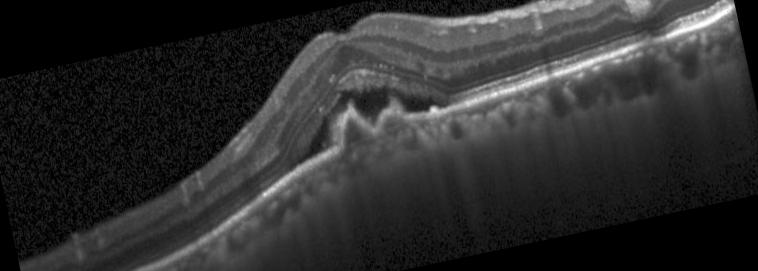neuroepithelium_detachment: (299, 87, 447, 163)
subretinal_fluid: (343, 115, 373, 147), (381, 112, 406, 130)
